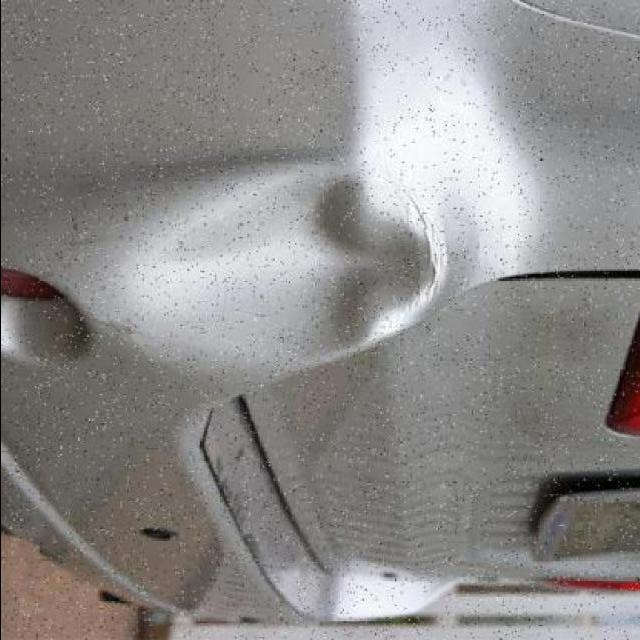rear-bumper-dent: (2, 0, 468, 638)
